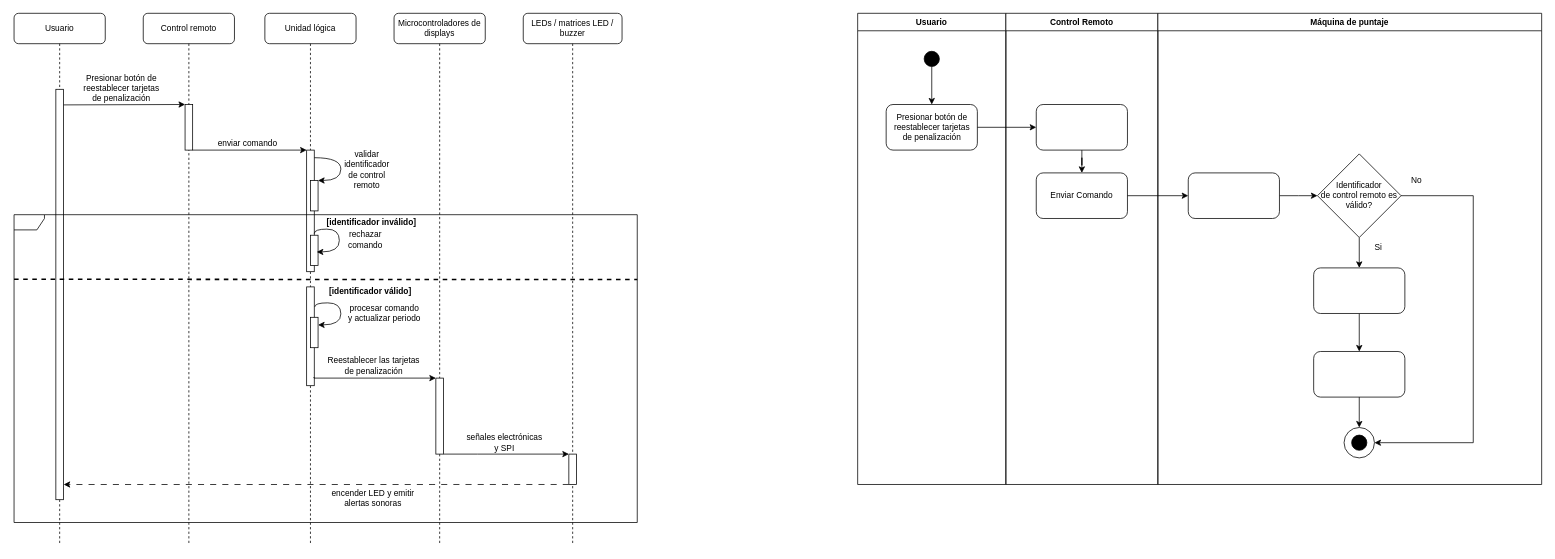
Image size: 1555x559. Some labels were removed from this diagram. The centre of each missing label's shape, as x and y in pixels:
"Actualizar displays y emitir sonido" belongs at point 1359,374.
"alt" belongs at point 325,368.
"Detectar Boton presionado" belongs at point 1081,127.
"Procesar comando" belongs at point 1359,290.
"Recibir Comando" belongs at point 1233,195.
